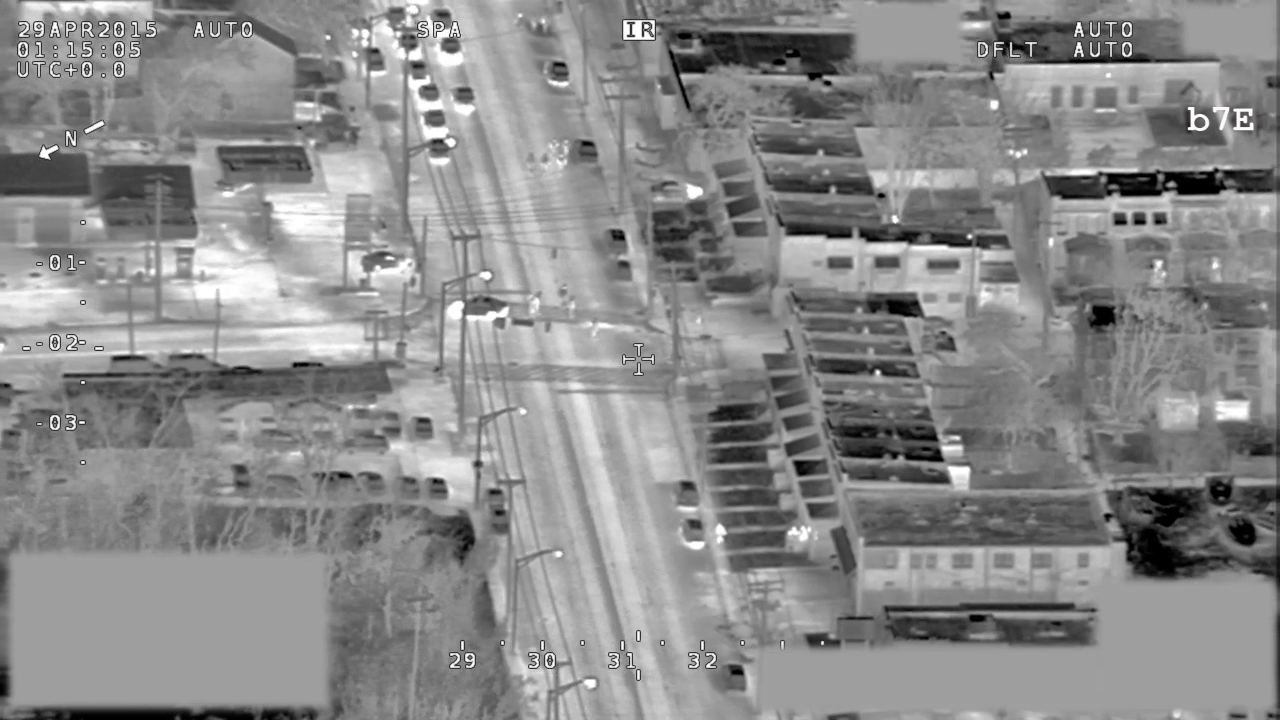vehicle: (358, 250, 419, 280), (449, 294, 511, 320), (431, 32, 465, 68), (668, 480, 703, 514), (541, 58, 576, 91), (721, 660, 753, 694), (394, 30, 426, 64), (571, 134, 599, 172), (360, 43, 390, 76), (599, 226, 632, 255), (446, 85, 479, 114), (607, 257, 639, 286), (680, 518, 708, 549), (404, 59, 434, 87), (425, 7, 456, 34), (418, 108, 449, 134), (425, 138, 454, 164), (385, 6, 410, 34), (415, 83, 441, 108)
